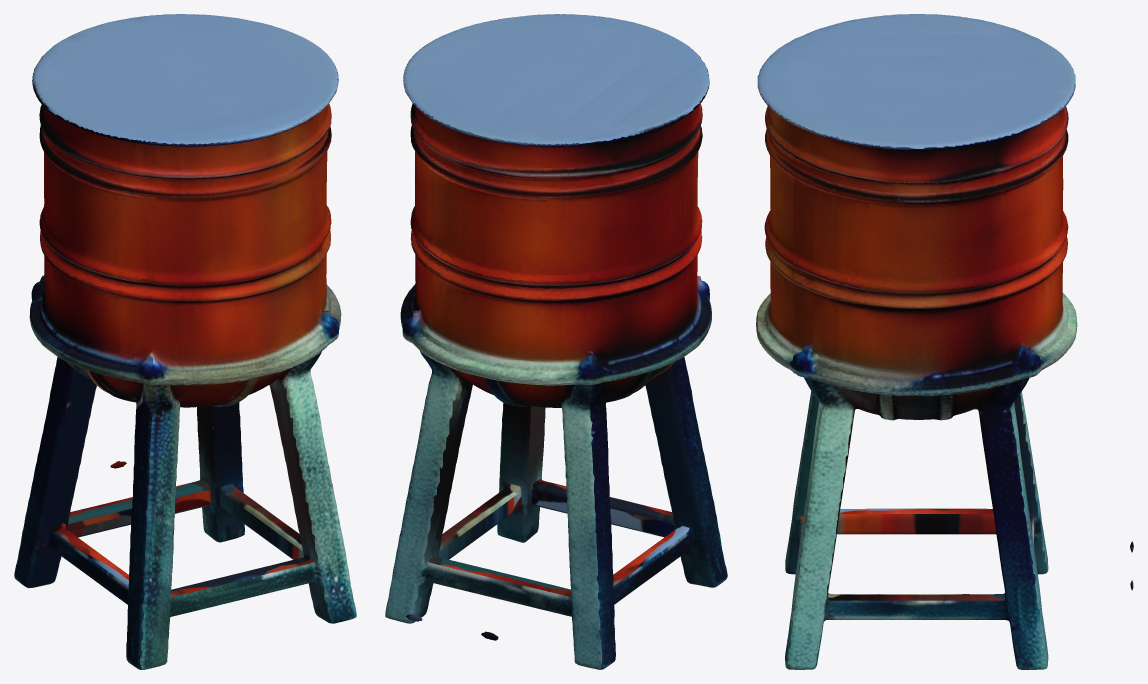
File: tanque_agua.glb
The picture shows the model from 3 angles, left to right: view 1: azimuth 30°, elevation 25°; view 2: azimuth 150°, elevation 25°; view 3: azimuth 270°, elevation 25°; orthographic projection. The views are drawn at different scales.
Visible parts, largest first — view 1: tmp36s_5rym.ply; view 2: tmp36s_5rym.ply; view 3: tmp36s_5rym.ply.
Boxes of the visible parts, x1,y1,x2,y2 form: tmp36s_5rym.ply: [14, 14, 356, 669]; tmp36s_5rym.ply: [385, 14, 727, 669]; tmp36s_5rym.ply: [756, 14, 1133, 669].
Size of the model in its own units: 0.537 by 0.9948 by 0.6327.
1 material, 1 textured.
